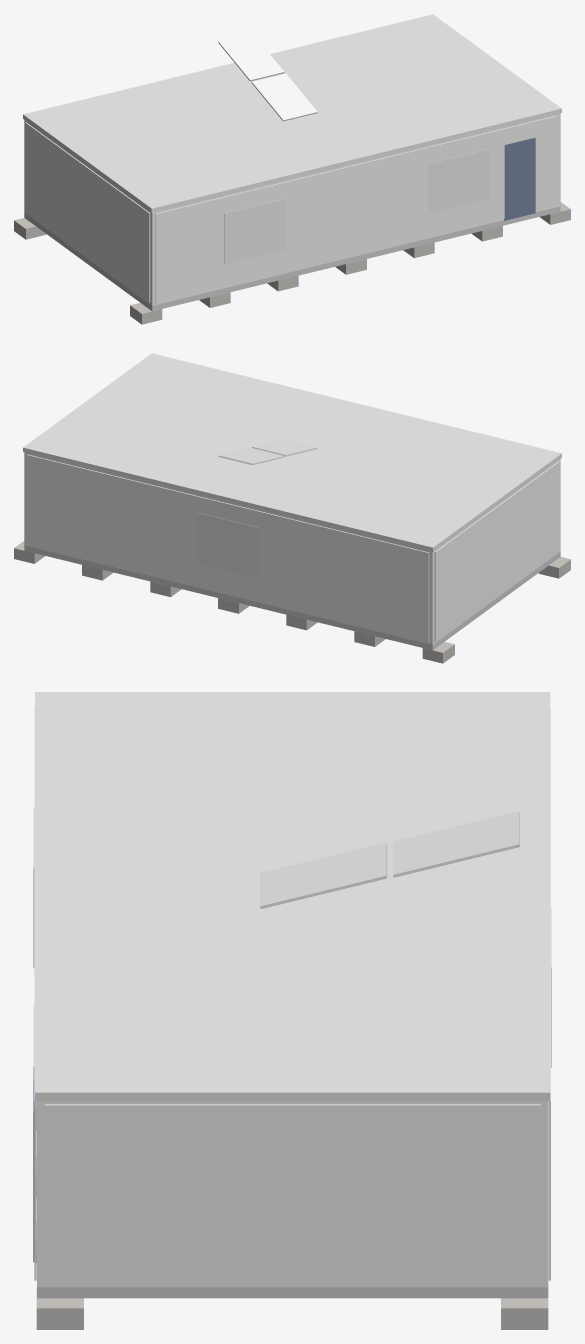
File: Studio-40-Premium+FullSolar-LOD2.glb
3 renders of one model, top to bottom at view 1: azimuth 30°, elevation 25°; view 2: azimuth 150°, elevation 25°; view 3: azimuth 270°, elevation 25°, orthographic. The views are drawn at different scales.
Parts seen in each view (by area): view 1: RoofMain, ExteriorPanelsPremium, WindowsLargeUpgrade, SolarPanelArray, BaseFrame, ExteriorShell, FoundationBlocks, EntryDoor; view 2: RoofMain, ExteriorPanelsPremium, BaseFrame, WindowsLargeUpgrade, ExteriorShell, FoundationBlocks, SolarPanelArray; view 3: RoofMain, ExteriorPanelsPremium, SolarPanelArray, ExteriorShell, BaseFrame, FoundationBlocks.
Part boxes in pixels (x1,y1,x2,y2): RoofMain: [23, 14, 561, 212]; ExteriorPanelsPremium: [25, 115, 557, 303]; WindowsLargeUpgrade: [224, 148, 490, 263]; SolarPanelArray: [218, 33, 317, 121]; BaseFrame: [24, 206, 560, 311]; ExteriorShell: [24, 113, 560, 305]; FoundationBlocks: [14, 202, 570, 324]; EntryDoor: [504, 137, 535, 220]; RoofMain: [23, 353, 561, 551]; ExteriorPanelsPremium: [27, 454, 559, 642]; BaseFrame: [24, 545, 560, 650]; WindowsLargeUpgrade: [197, 512, 258, 577]; ExteriorShell: [24, 452, 560, 644]; FoundationBlocks: [14, 541, 570, 663]; SolarPanelArray: [218, 439, 317, 465]; RoofMain: [35, 692, 550, 1101]; ExteriorPanelsPremium: [34, 708, 550, 1284]; SolarPanelArray: [260, 811, 519, 908]; ExteriorShell: [37, 1101, 548, 1287]; BaseFrame: [37, 1287, 548, 1298]; FoundationBlocks: [36, 1101, 548, 1329].
Size of the model in its own units: 12.49 by 4.07 by 6.53.
